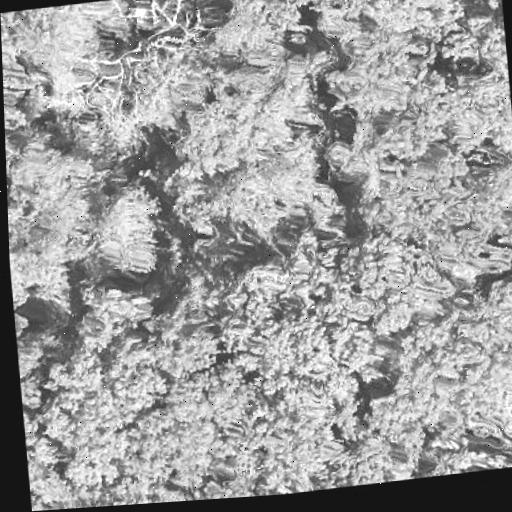tree-top: (361, 264, 512, 457), (165, 51, 339, 169), (5, 137, 105, 308), (223, 248, 341, 387), (174, 145, 337, 240), (328, 21, 444, 126), (0, 0, 126, 86), (319, 106, 398, 205), (93, 178, 166, 281), (440, 63, 512, 166), (219, 0, 312, 66), (74, 277, 157, 347), (435, 1, 508, 71), (153, 308, 223, 379), (340, 227, 405, 301), (48, 349, 110, 416), (25, 424, 73, 507), (15, 321, 58, 413), (367, 0, 476, 34), (188, 463, 257, 501), (3, 92, 33, 136), (444, 0, 503, 13)
